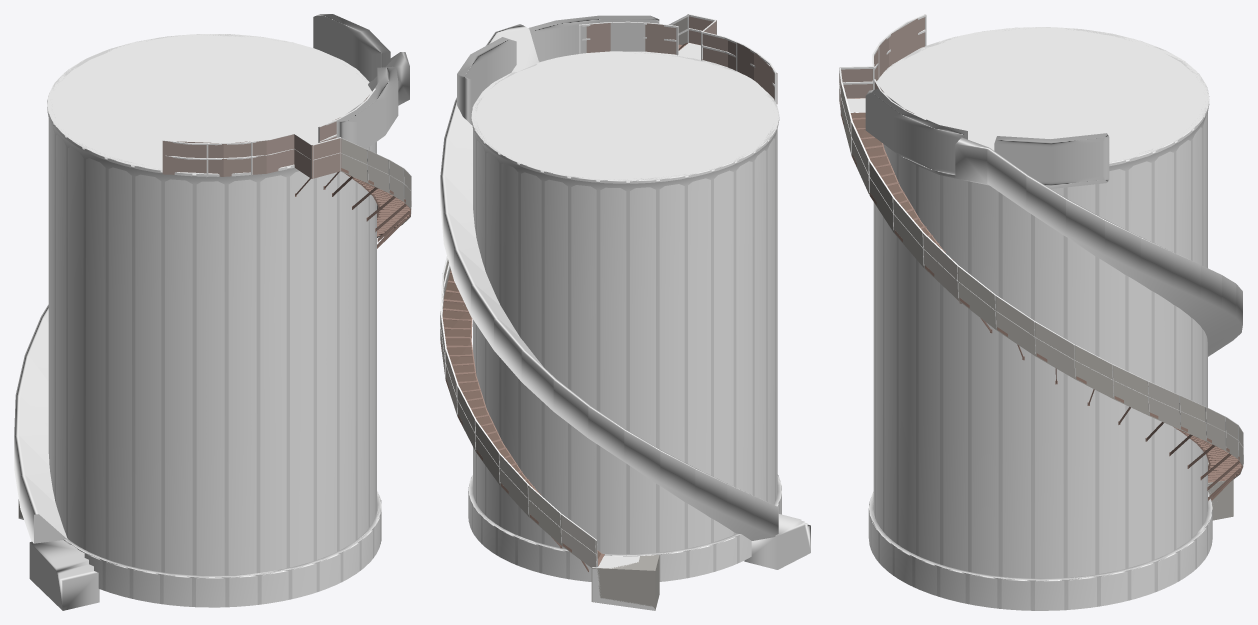
File: s_oil_ref_tank_sml.dae
The picture shows the model from 3 angles, left to right: view 1: azimuth 30°, elevation 25°; view 2: azimuth 150°, elevation 25°; view 3: azimuth 270°, elevation 25°; orthographic projection. The views are drawn at different scales.
Visible parts, largest first — view 1: s_oil_ref_mockup_tank_L2000, Colmesh_s_oil_ref_tank_sml-1, s_oil_ref_mockup_tank_L250, s_oil_ref_mockup_tank_L500, s_oil_ref_mockup_tank_L120, s_oil_ref_mockup_tank_L10; view 2: s_oil_ref_mockup_tank_L2000, Colmesh_s_oil_ref_tank_sml-1, s_oil_ref_mockup_tank_L250, s_oil_ref_mockup_tank_L120, s_oil_ref_mockup_tank_L500, s_oil_ref_mockup_tank_L10; view 3: s_oil_ref_mockup_tank_L2000, Colmesh_s_oil_ref_tank_sml-1, s_oil_ref_mockup_tank_L250, s_oil_ref_mockup_tank_L500, s_oil_ref_mockup_tank_L120, s_oil_ref_mockup_tank_L10.
Part boxes in pixels (<box>): s_oil_ref_mockup_tank_L2000: <box>19,34,411,607</box>; Colmesh_s_oil_ref_tank_sml-1: <box>14,14,409,610</box>; s_oil_ref_mockup_tank_L250: <box>18,34,384,577</box>; s_oil_ref_mockup_tank_L500: <box>18,34,411,578</box>; s_oil_ref_mockup_tank_L120: <box>54,37,363,167</box>; s_oil_ref_mockup_tank_L10: <box>74,48,165,144</box>; s_oil_ref_mockup_tank_L2000: <box>440,14,781,610</box>; Colmesh_s_oil_ref_tank_sml-1: <box>440,15,810,581</box>; s_oil_ref_mockup_tank_L250: <box>442,43,777,610</box>; s_oil_ref_mockup_tank_L120: <box>481,57,772,177</box>; s_oil_ref_mockup_tank_L500: <box>440,14,781,605</box>; s_oil_ref_mockup_tank_L10: <box>551,62,755,170</box>; s_oil_ref_mockup_tank_L2000: <box>839,14,1243,610</box>; Colmesh_s_oil_ref_tank_sml-1: <box>865,27,1242,610</box>; s_oil_ref_mockup_tank_L250: <box>850,27,1216,578</box>; s_oil_ref_mockup_tank_L500: <box>839,17,1243,581</box>; s_oil_ref_mockup_tank_L120: <box>893,32,1207,156</box>; s_oil_ref_mockup_tank_L10: <box>906,41,1205,98</box>.
Bounding box in the file's own units: 12.23 × 12.11 × 16.02.
